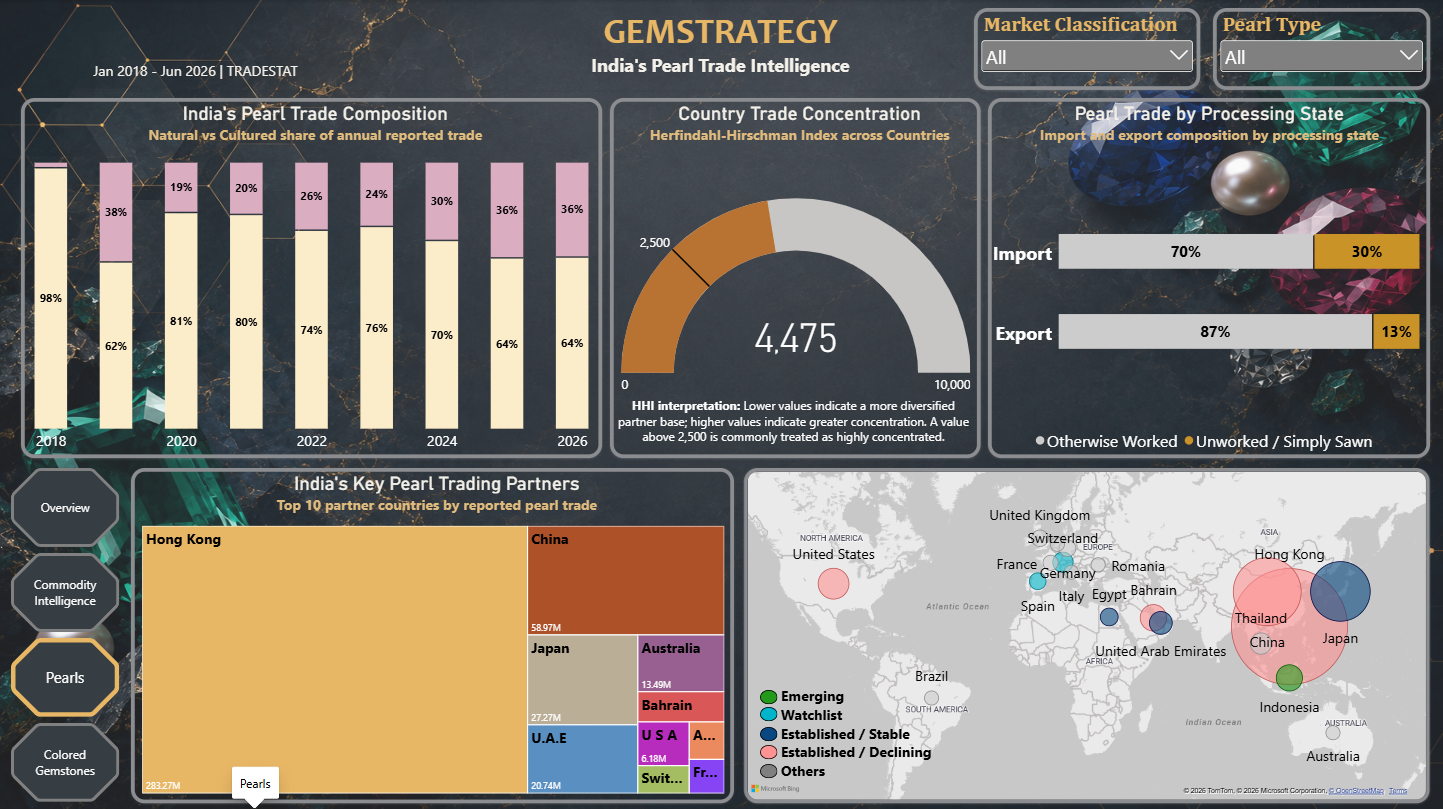

What the dashboard file says about the page in this screenshot:
{"tool":"powerbi","page":{"name":"Pearls","canvas":[1920,1080],"ordinal":2},"visuals":[{"type":"map","fields":{"Size":["Measure.Pearl Market Value - Latest 12M"],"Category":["Dim_Country.map_display_name"]},"box":[989.6,622.5,912.4,445.6],"z":0},{"type":"textbox","box":[14.6,10.6,1887.3,109.1],"z":1000},{"type":"hundredPercentStackedColumnChart","title":"India''s Pearl Trade Composition","fields":{"Category":["Dim_Date.year"],"Series":["Dim_HS_Code.commodity_name"],"Y":["Measure.Pearl Trade Value (Dynamic)"]},"box":[27.9,130.3,772.8,478.8],"z":2000},{"type":"textbox","box":[75.8,81.1,368.4,38.6],"z":3000},{"type":"pageNavigator","box":[14.6,622.5,145,445.6],"z":4000},{"type":"hundredPercentStackedBarChart","title":"Pearl Trade by Processing State","fields":{"Category":["Fact_Trade.trade_flow_key"],"Y":["Measure.Trade Value (Partner Rows)"],"Series":["Dim_HS_Code.worked_status"]},"box":[1314.1,130.3,587.9,478.8],"z":5000},{"type":"treemap","title":"India''s Key Pearl Trading Partners","fields":{"Values":["Measure.Trade Value (Partner Rows)"],"Group":["Dim_Country.country_name"]},"box":[174.2,622.5,802,445.6],"z":6000},{"type":"textbox","box":[1033.4,912.4,215.5,138.3],"z":7000},{"type":"shape","box":[1010.8,917.2,23.3,19],"z":8000},{"type":"shape","box":[1011,941,23.3,19],"z":9000},{"type":"shape","box":[1010.8,967,23.3,19],"z":10000},{"type":"shape","box":[1010.8,990.6,23.3,19],"z":11000},{"type":"shape","box":[1010.8,1015.8,23.3,19],"z":12000},{"type":"slicer","fields":{"Values":["Dim_HS_Code.commodity_name"]},"box":[1613.6,10.2,288.9,109.4],"z":13000},{"type":"slicer","fields":{"Values":["Pearl Market Opportunity.Market Classification"]},"box":[1295.6,10.2,300.5,109.4],"z":14000},{"type":"gauge","title":"Country Trade Concentration","fields":{"Y":["Measure.HHI (Country Concentration)"]},"box":[811,130.3,493.4,478.8],"z":15000},{"type":"textbox","box":[821.6,528,466.8,71.8],"z":16000}]}

Visuals, with their boxes in screenshot pixels (x1, y1, x2, y2), scaled from the page's 1920x1080 canvas onto the 1443x809 screenshot:
map - Measure.Pearl Market Value - Latest 12M x Dim_Country.map_display_name: crop(744, 466, 1429, 800)
textbox: crop(11, 8, 1429, 90)
"India''s Pearl Trade Composition" hundredPercentStackedColumnChart: crop(21, 98, 602, 456)
textbox: crop(57, 61, 334, 90)
pageNavigator: crop(11, 466, 120, 800)
"Pearl Trade by Processing State" hundredPercentStackedBarChart: crop(988, 98, 1429, 456)
"India''s Key Pearl Trading Partners" treemap: crop(131, 466, 734, 800)
textbox: crop(777, 683, 939, 787)
shape: crop(760, 687, 777, 701)
shape: crop(760, 705, 777, 719)
shape: crop(760, 724, 777, 739)
shape: crop(760, 742, 777, 756)
shape: crop(760, 761, 777, 775)
slicer - Dim_HS_Code.commodity_name: crop(1213, 8, 1430, 90)
slicer - Pearl Market Opportunity.Market Classification: crop(974, 8, 1200, 90)
"Country Trade Concentration" gauge: crop(610, 98, 980, 456)
textbox: crop(617, 396, 968, 449)
